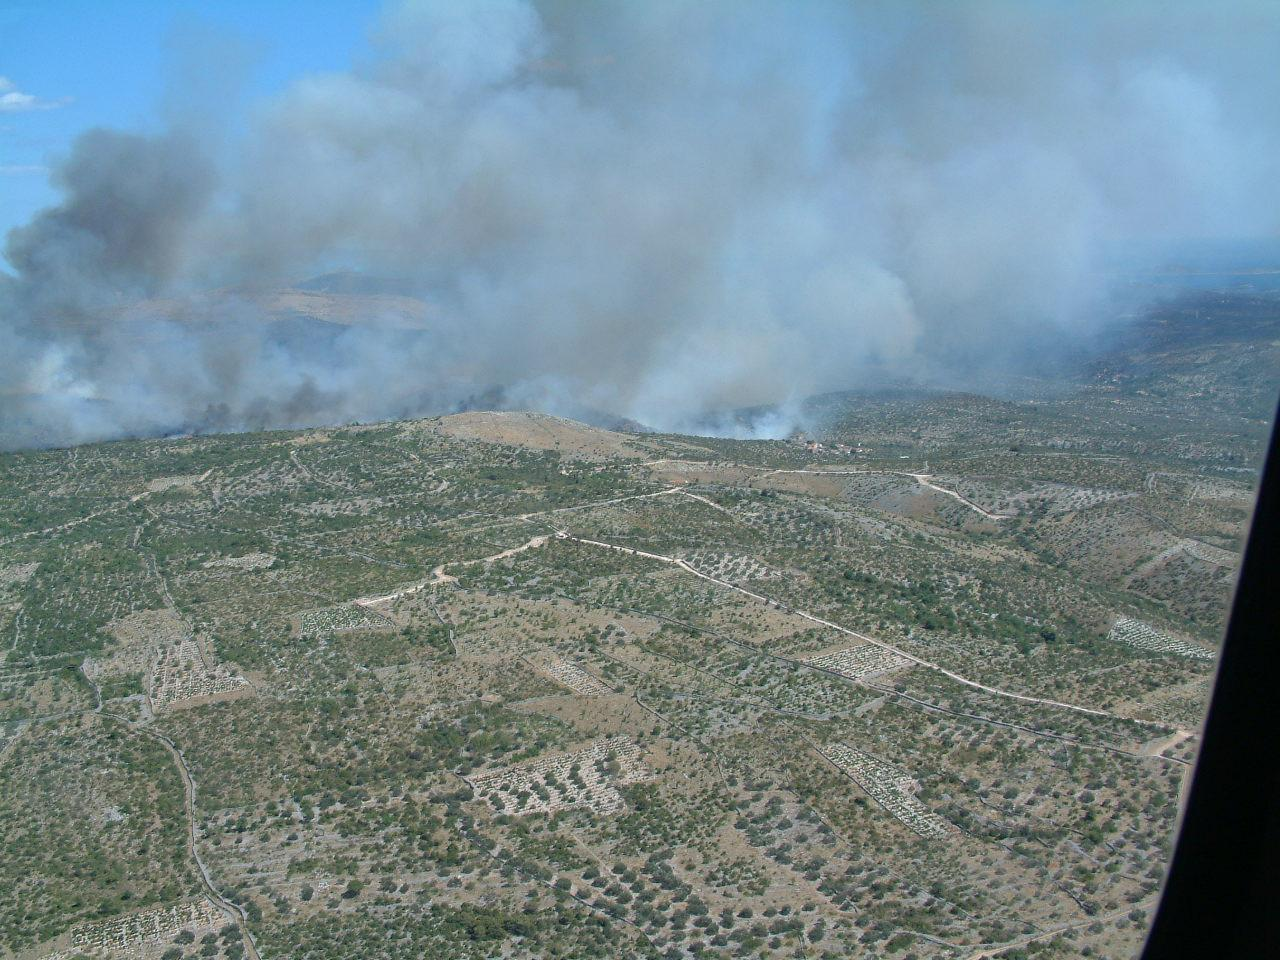Smoke: (0, 0, 1280, 453)
